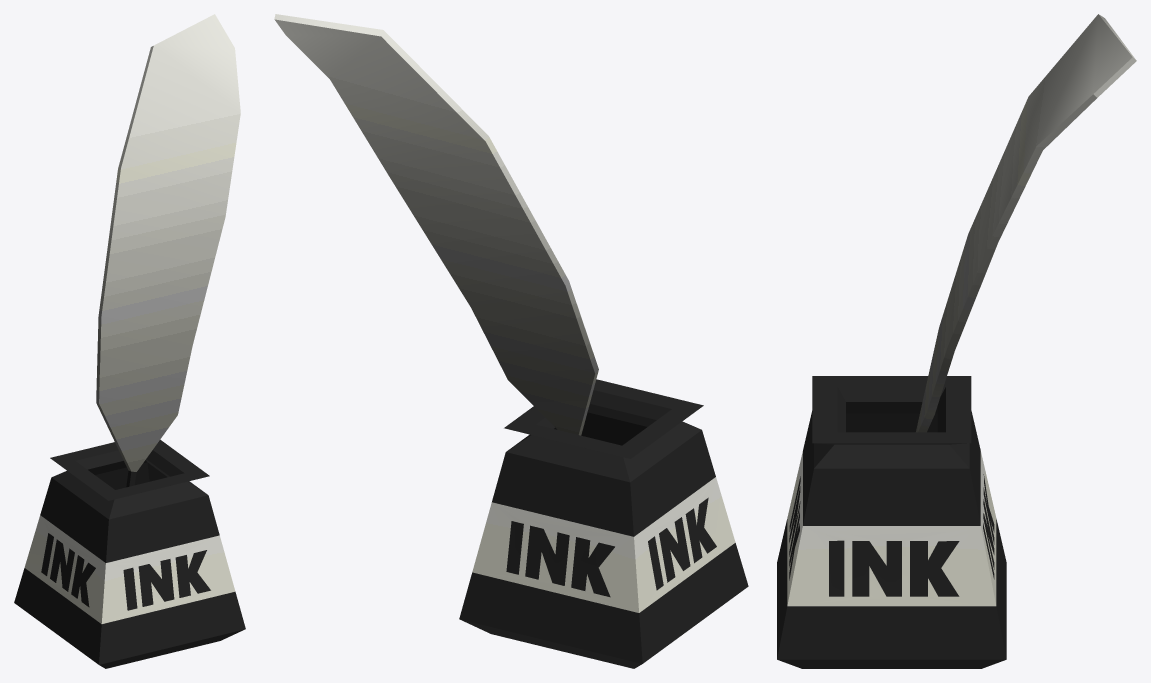
File: SM_Inkwell.fbx
3 renders of one model, left to right at view 1: azimuth 30°, elevation 25°; view 2: azimuth 150°, elevation 25°; view 3: azimuth 270°, elevation 25°, orthographic. The views are drawn at different scales.
Visible parts, largest first — view 1: quill_GEO, inkwell_GEO; view 2: inkwell_GEO, quill_GEO; view 3: inkwell_GEO, quill_GEO.
Part boxes in pixels (x1,y1,x2,y2): quill_GEO: (96, 14, 240, 487); inkwell_GEO: (14, 439, 245, 668); inkwell_GEO: (459, 379, 748, 668); quill_GEO: (274, 14, 598, 435); inkwell_GEO: (777, 376, 1006, 668); quill_GEO: (916, 14, 1136, 432).
Size of the model in its own units: 2.2 by 4.24 by 2.01.
